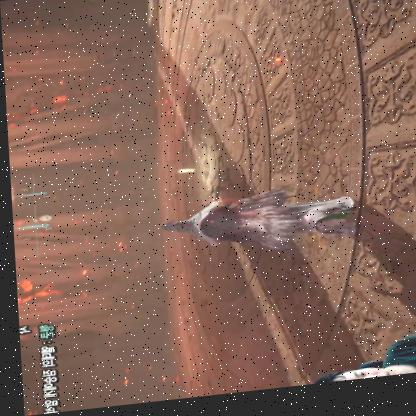streamer: (303, 326, 416, 391)
